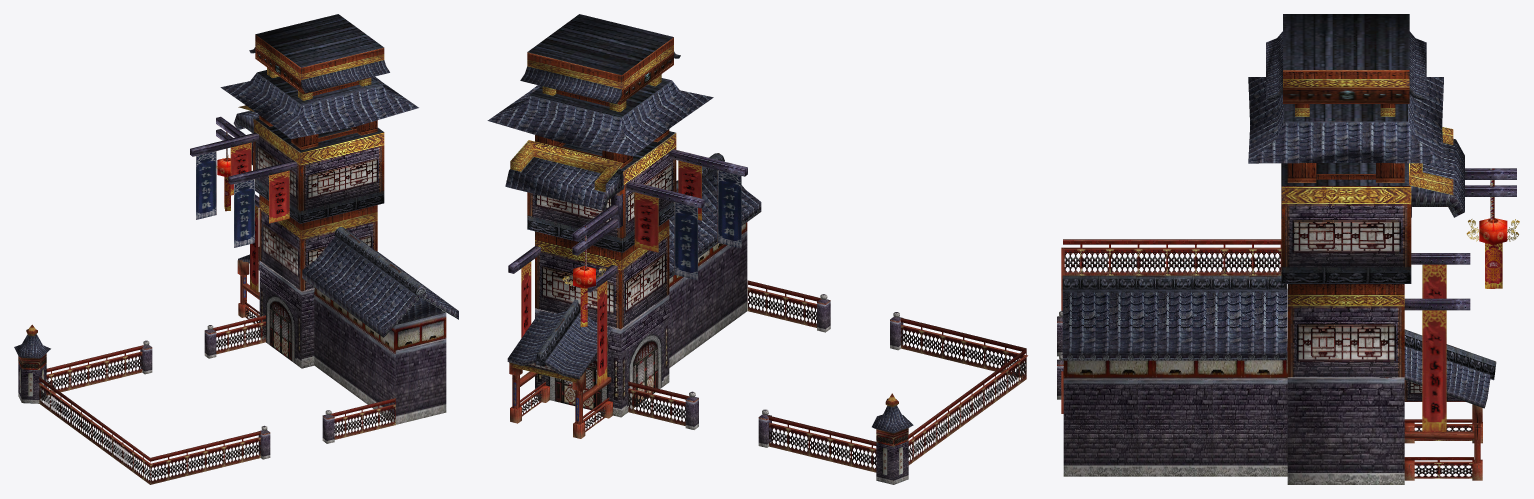
Rendered from cj_resta01.glb.
The picture shows the model from 3 angles, left to right: view 1: azimuth 30°, elevation 25°; view 2: azimuth 150°, elevation 25°; view 3: azimuth 270°, elevation 25°; orthographic projection. The views are drawn at different scales.
Visible parts, largest first — view 1: CJ_resta01_roof, CJ_resta01_wall01, CJ_resta01_fence, cj_resta01_flag01, CJ_resta01_Blight, CJ_resta01_flag, CJ_resta01_gidung01, CJ_resta01_enter, CJ_resta01_light02; view 2: CJ_resta01_roof, CJ_resta01_fence, CJ_resta01_wall01, cj_resta01_flag01, CJ_resta01_flag, CJ_resta01_Blight, CJ_resta01_enter, CJ_resta01_gidung01, CJ_resta01_light02; view 3: CJ_resta01_roof, CJ_resta01_wall01, CJ_resta01_fence, cj_resta01_flag01, CJ_resta01_flag, CJ_resta01_light02, CJ_resta01_enter, CJ_resta01_gidung01.
Boxes of the visible parts, box(x1,y1,x2,y2) form: CJ_resta01_roof: box(220, 14, 458, 337); CJ_resta01_wall01: box(259, 261, 446, 424); CJ_resta01_fence: box(38, 290, 395, 484); cj_resta01_flag01: box(196, 142, 289, 294); CJ_resta01_Blight: box(14, 324, 50, 403); CJ_resta01_flag: box(190, 116, 296, 207); CJ_resta01_gidung01: box(140, 325, 334, 459); CJ_resta01_enter: box(237, 260, 300, 317); CJ_resta01_light02: box(216, 123, 230, 211); CJ_resta01_roof: box(487, 14, 761, 382); CJ_resta01_fence: box(520, 280, 1027, 472); CJ_resta01_wall01: box(535, 222, 747, 417); cj_resta01_flag01: box(521, 160, 741, 386); CJ_resta01_flag: box(508, 149, 747, 292); CJ_resta01_Blight: box(872, 393, 913, 484); CJ_resta01_enter: box(509, 363, 612, 438); CJ_resta01_gidung01: box(685, 294, 903, 447); CJ_resta01_light02: box(562, 226, 606, 326); CJ_resta01_roof: box(1062, 14, 1496, 408); CJ_resta01_wall01: box(1063, 339, 1404, 484); CJ_resta01_fence: box(1061, 239, 1474, 478); cj_resta01_flag01: box(1422, 264, 1446, 431); CJ_resta01_flag: box(1404, 168, 1516, 310); CJ_resta01_light02: box(1466, 168, 1519, 288); CJ_resta01_enter: box(1404, 401, 1482, 480); CJ_resta01_gidung01: box(1057, 310, 1391, 399).
Size of the model in its own units: 22.02 by 18.09 by 18.14.
Materials: 9 (9 with a texture image).
